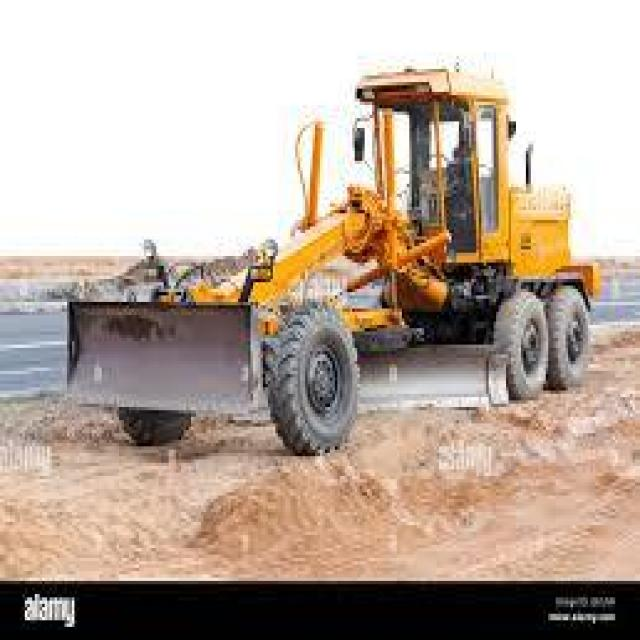Grader: (60, 26, 618, 450)
